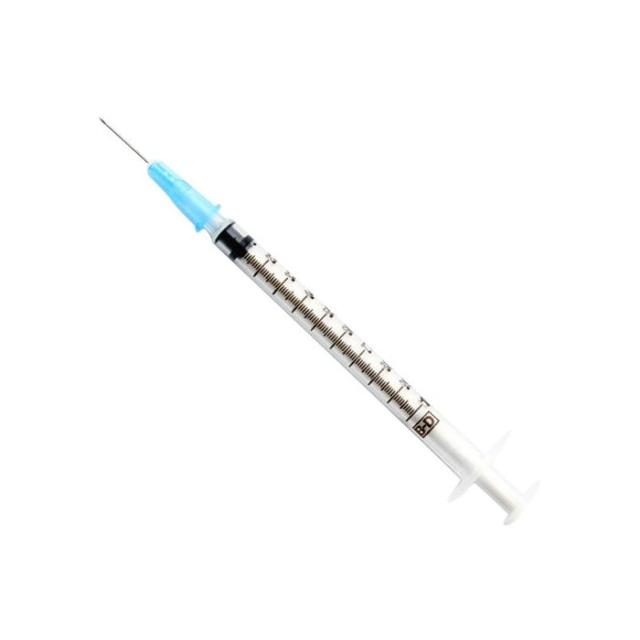syringe: (96, 114, 535, 526)
